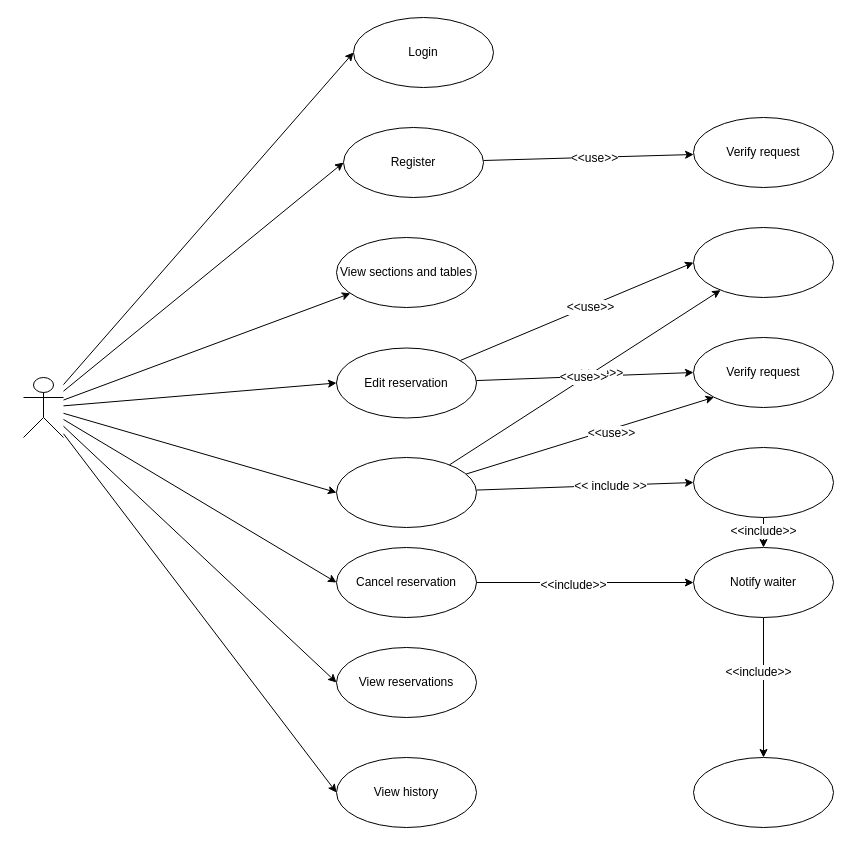
The diagram is 851 pixels wide and 845 high, and some of its shapes have lost their labels. The centre of each missing label's shape, as x and y in pixels:
"Check availability" goes at pixel 763 262.
"Customer" goes at pixel 43 407.
"Make reservation" goes at pixel 763 482.
"Reserve table" goes at pixel 406 492.
"Send notification" goes at pixel 763 792.
